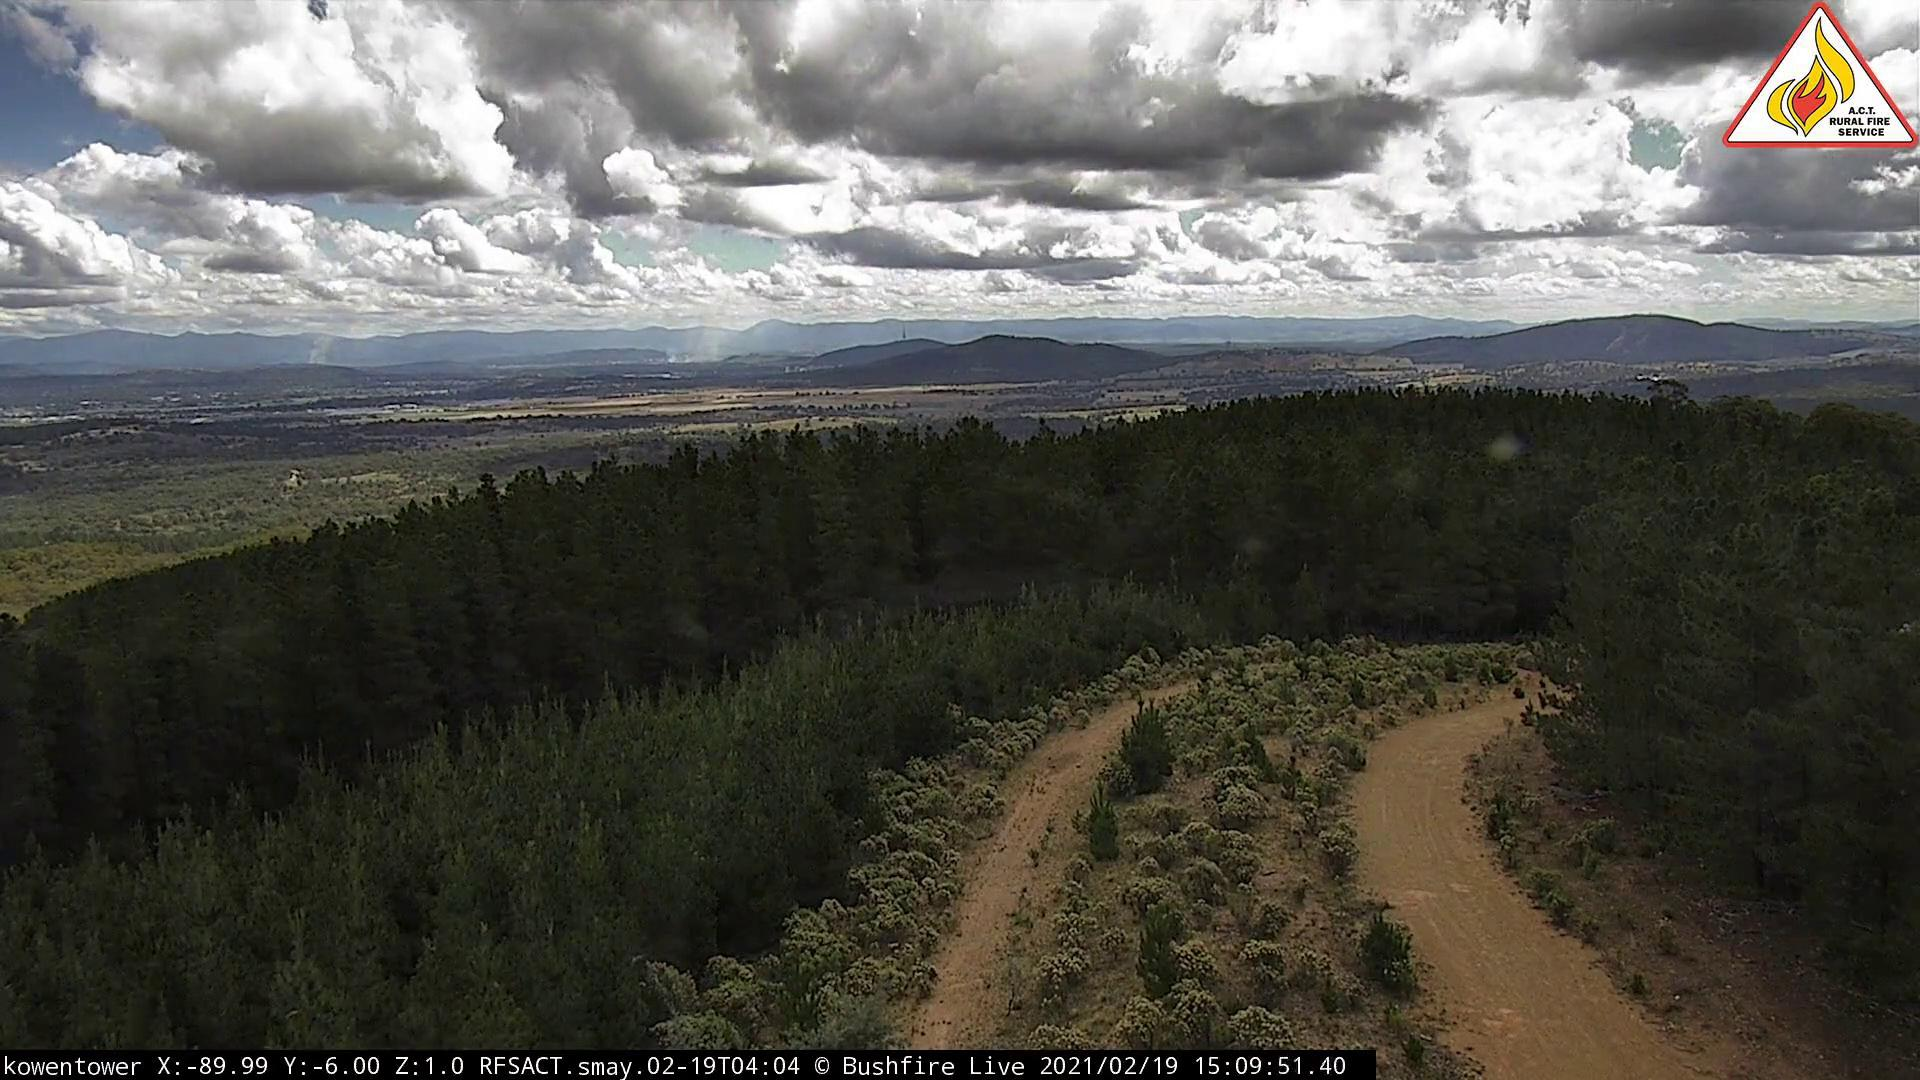instance_salient_object: (669, 305, 744, 371), (303, 313, 375, 372)
